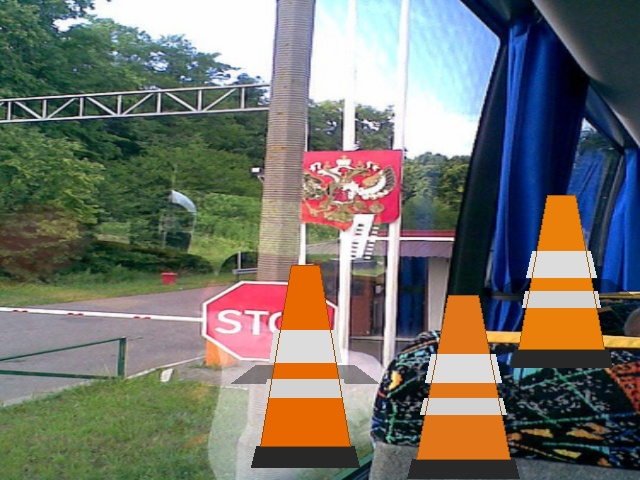traffic-cone: (251, 265, 359, 467), (407, 295, 519, 478), (510, 195, 612, 367)
